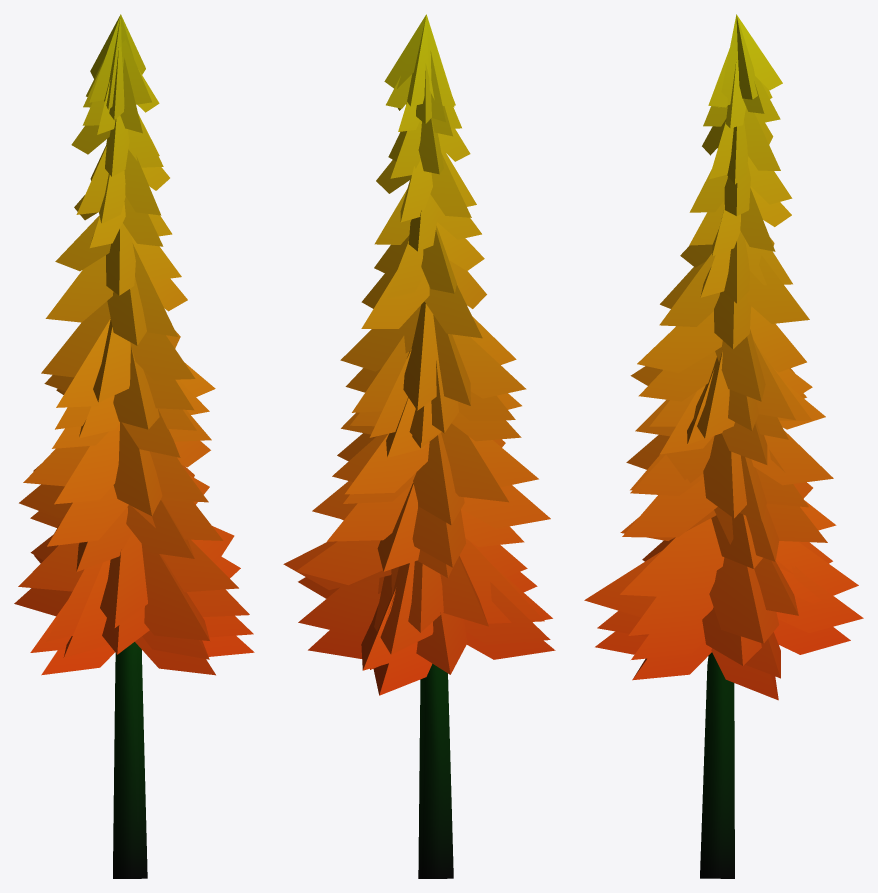
The model's file is large_pine_lod_1.obj.
3 views of the same model, side by side, from view 1: azimuth 30°, elevation 25°; view 2: azimuth 150°, elevation 25°; view 3: azimuth 270°, elevation 25° (orthographic).
Visible parts, largest first — view 1: LargePineLowLoD; view 2: LargePineLowLoD; view 3: LargePineLowLoD.
Boxes of the visible parts, box(x1,y1,x2,y2) form: LargePineLowLoD: box(14, 14, 254, 878); LargePineLowLoD: box(283, 14, 555, 878); LargePineLowLoD: box(584, 14, 863, 878).
Bounding box in the file's own units: 7.79 × 27.17 × 8.01.
